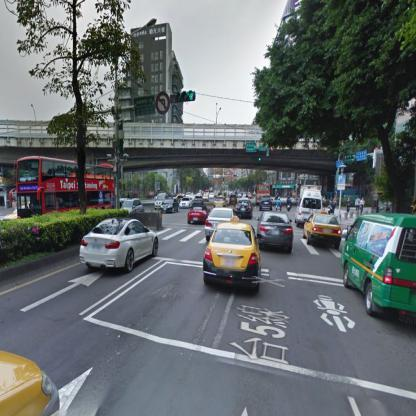Green Light: (171, 91, 198, 103)
